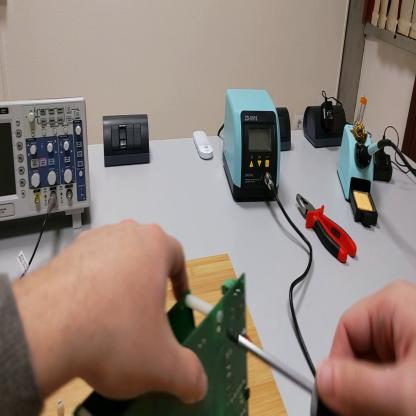electric screwdriver battery: (374, 152, 393, 182)
hand: (65, 220, 205, 399), (318, 279, 416, 415)
low voltage board: (82, 274, 254, 415)
oscilloscope: (2, 98, 91, 228)
pliers: (297, 193, 358, 265)
screwdriver-: (227, 324, 372, 416)
socket: (303, 107, 348, 149), (277, 107, 292, 153)
welder base: (336, 125, 379, 229)
welder probe tip: (359, 131, 386, 165)
welder station: (224, 89, 281, 201)
working area: (43, 254, 287, 412)
